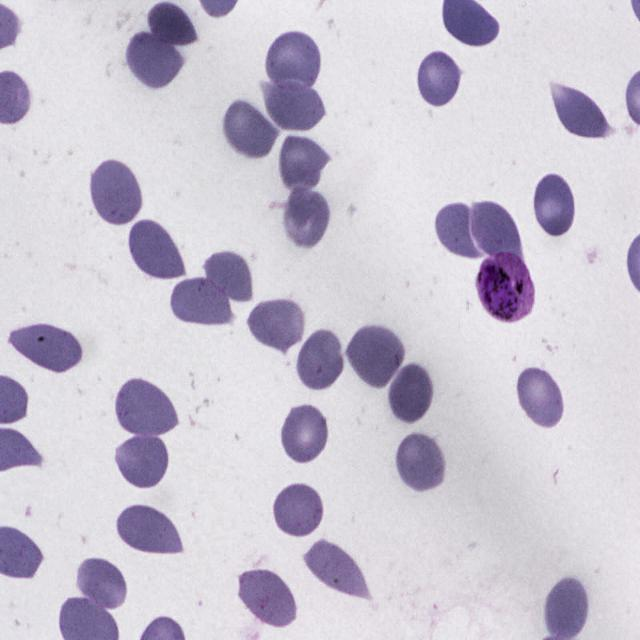red blood cell: (303, 540, 373, 603), (116, 377, 182, 438), (130, 216, 190, 282), (115, 503, 187, 557), (346, 322, 404, 389), (550, 82, 616, 140), (166, 271, 233, 328), (89, 157, 144, 226), (10, 323, 86, 372), (221, 95, 280, 158), (246, 294, 306, 355), (238, 567, 296, 629), (394, 428, 447, 494), (267, 27, 323, 88), (294, 327, 346, 392), (114, 430, 170, 490), (261, 80, 328, 130), (533, 168, 578, 242), (542, 571, 590, 640), (468, 199, 522, 260), (386, 358, 434, 426), (280, 401, 330, 466), (270, 480, 326, 538), (126, 31, 184, 87), (516, 364, 565, 430), (74, 555, 130, 611), (282, 184, 329, 250), (434, 197, 484, 258), (202, 249, 256, 305), (279, 133, 329, 190), (418, 49, 462, 110), (144, 0, 200, 46)
trophozoite: (474, 252, 536, 321)
